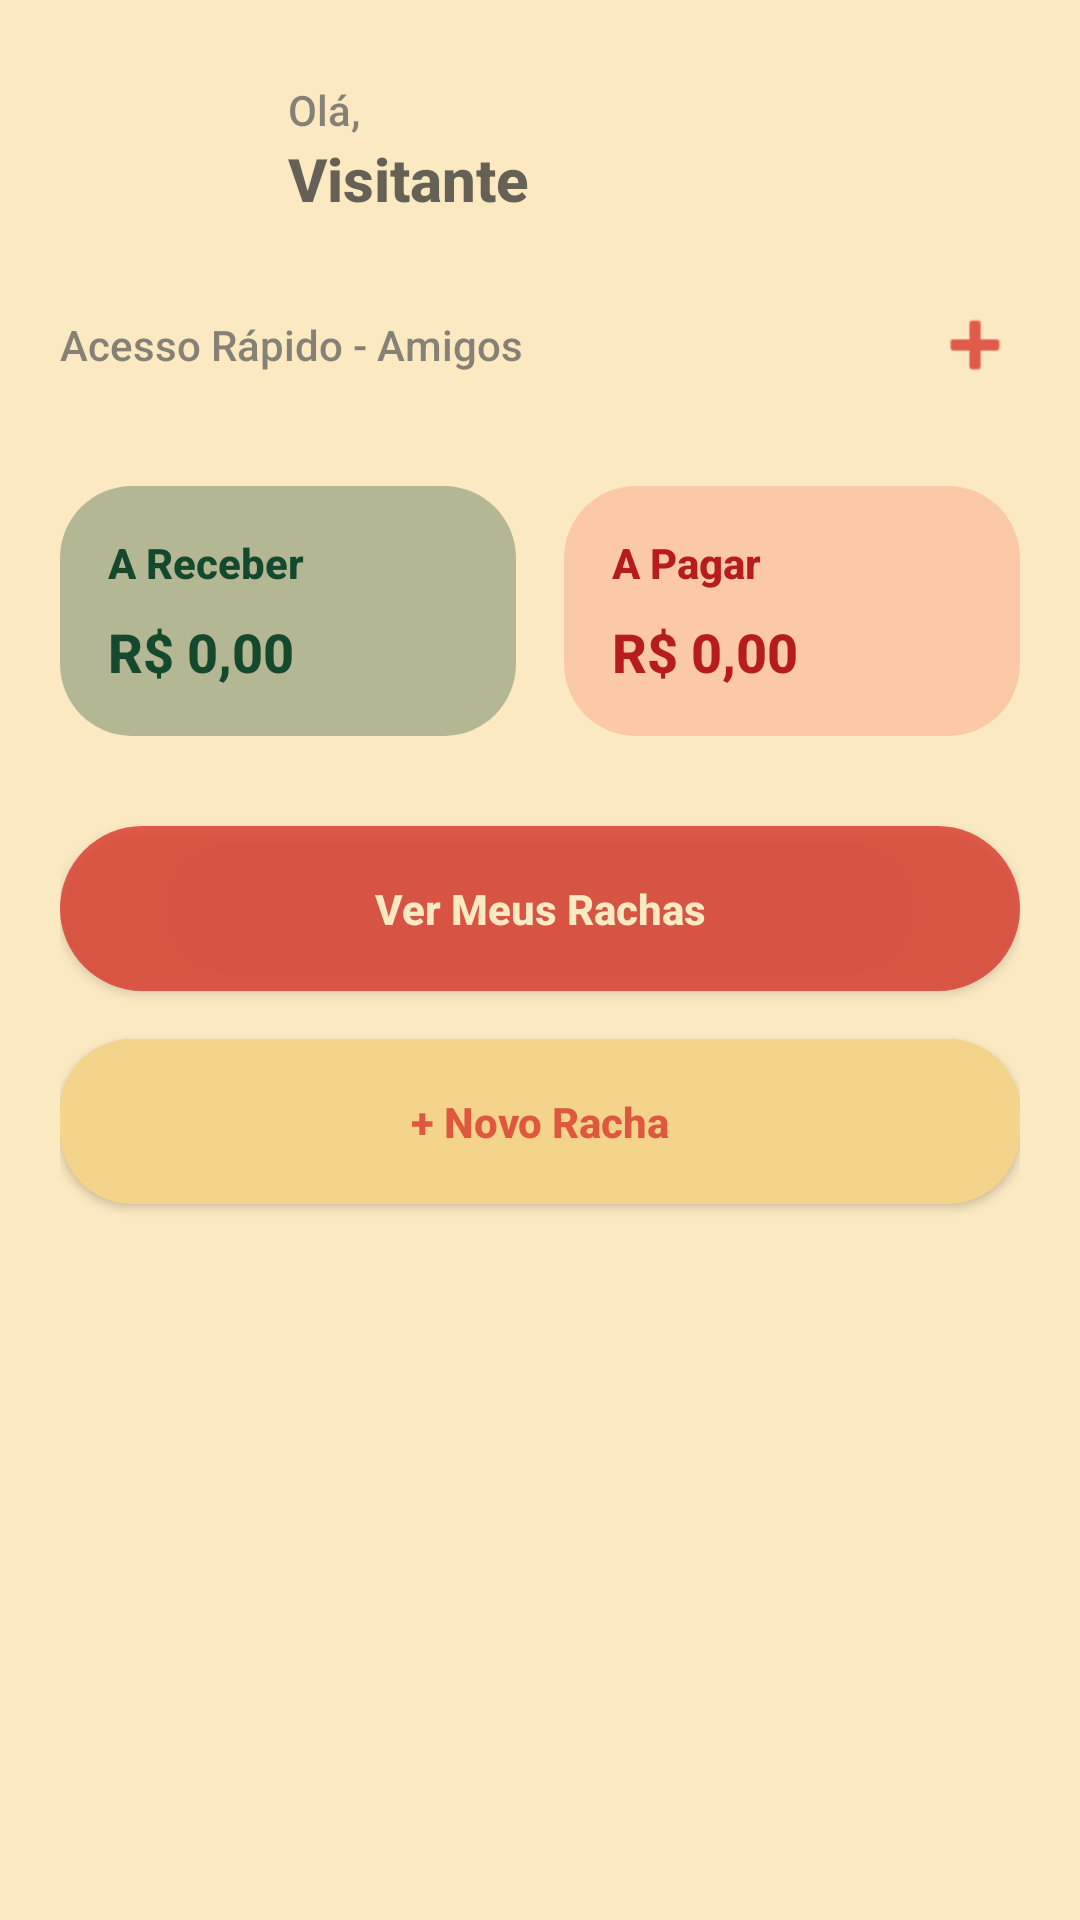

Named icons in this screenshot (1080px x 1920px) and their centers, (x,y):
add: (975,345)
